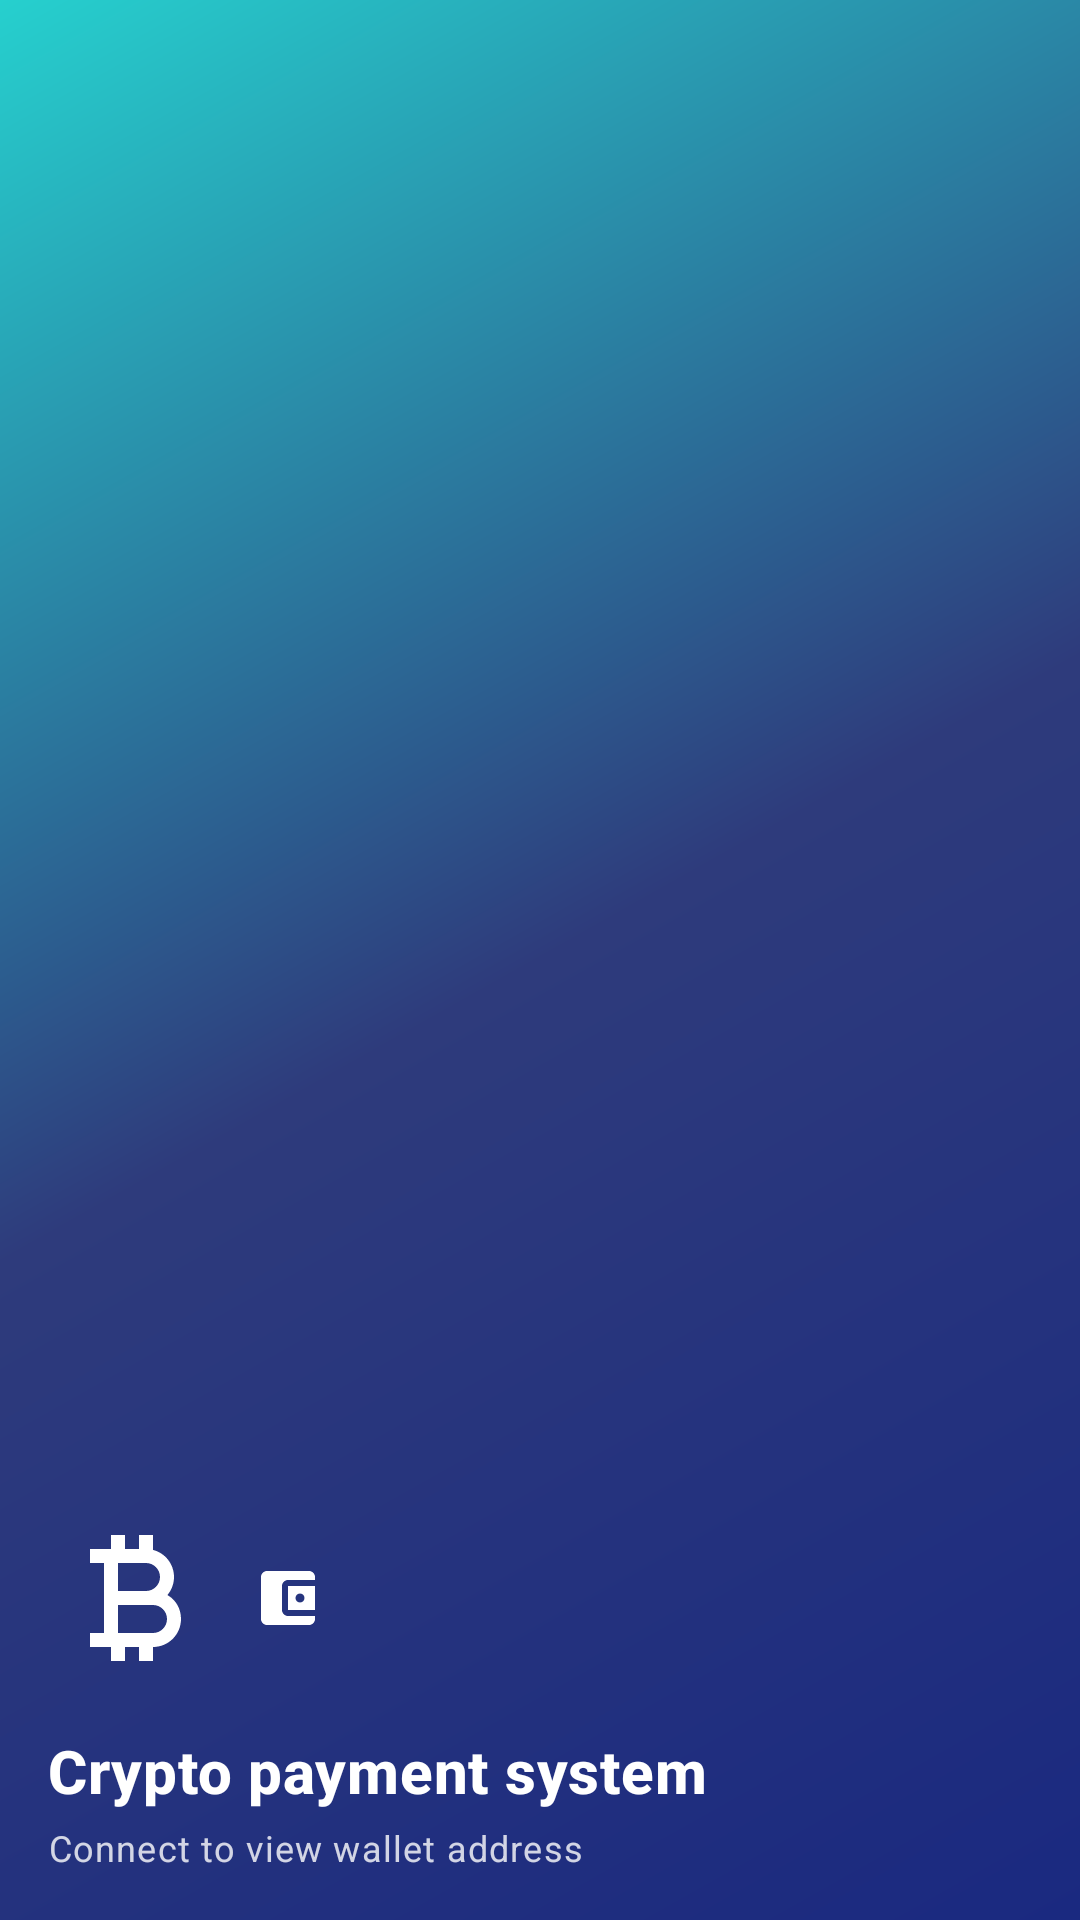

Named icons in this screenshot (1080 x 1920) and their centers, point (x, y):
wallet: point (288, 1598)
